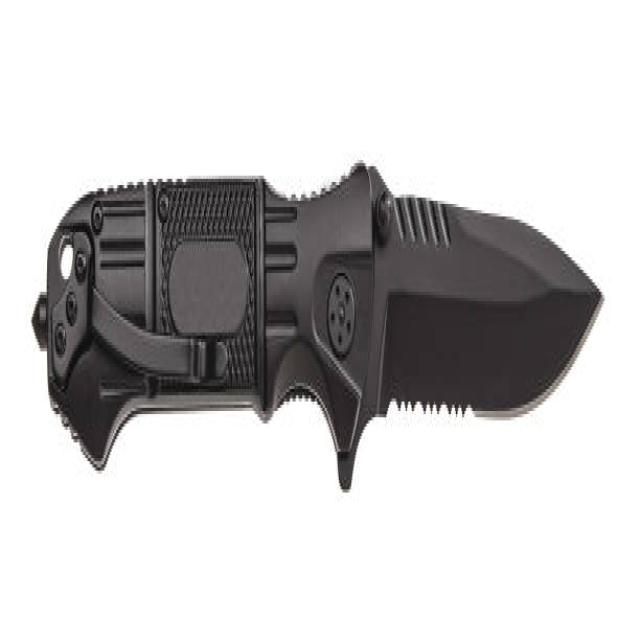knife: (28, 179, 607, 509)
